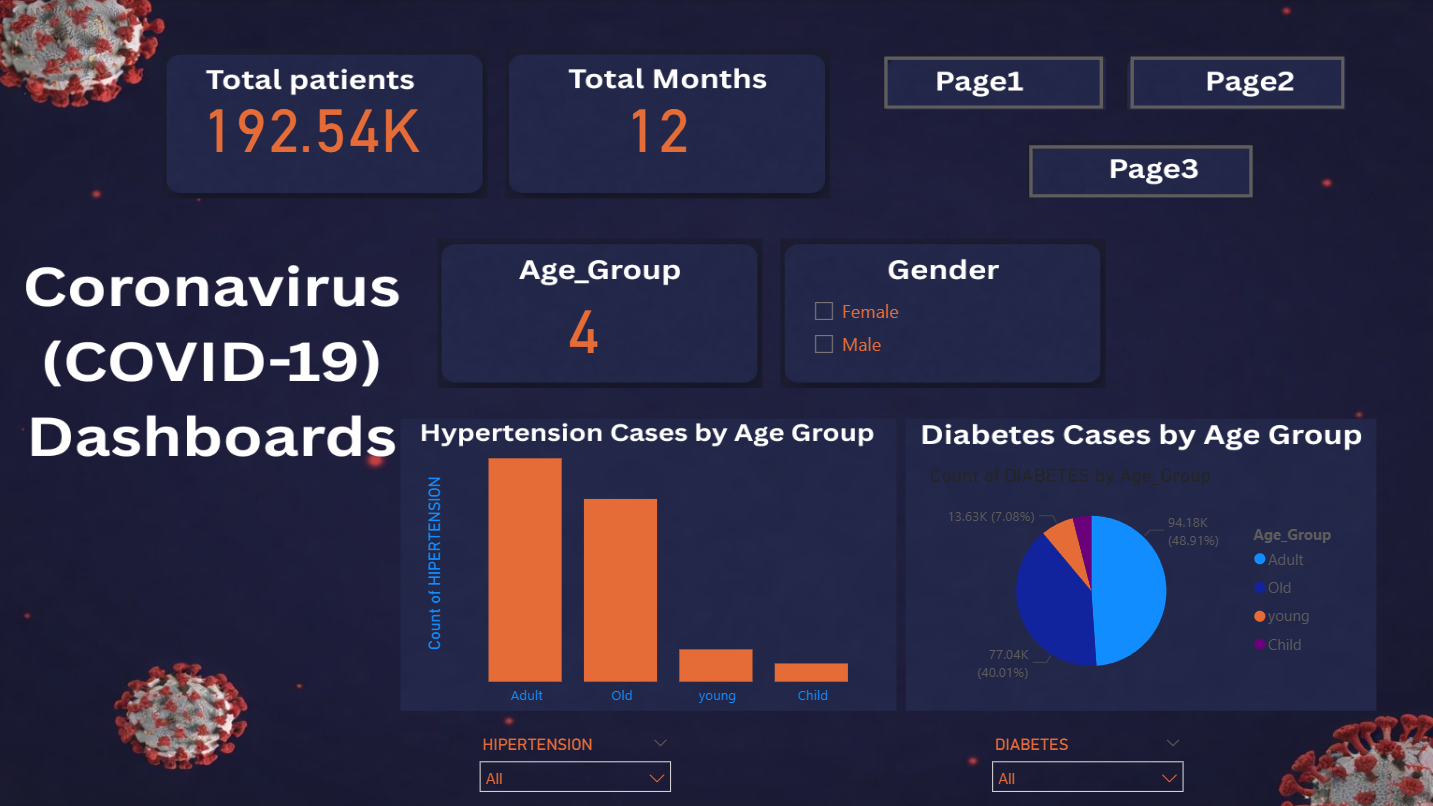

This screenshot's page, from the dashboard's own definition file:
{"tool":"powerbi","page":{"name":"Page 1","canvas":[1280,720],"ordinal":0},"visuals":[{"type":"card","fields":{"Values":["CountNonNull(CovidData_Cleaned.Age_Group)"]},"box":[138.6,87.8,279.9,65.9],"z":0},{"type":"card","fields":{"Values":["Count(CovidData_Cleaned.Month Name)"]},"box":[447.3,87.8,279.9,65.9],"z":1000},{"type":"card","fields":{"Values":["Count(CovidData_Cleaned.Age_Group)"]},"box":[381.5,267.6,279.9,65.9],"z":2000},{"type":"columnChart","fields":{"Category":["CovidData_Cleaned.Age_Group"],"Y":["CountNonNull(CovidData_Cleaned.HIPERTENSION)"]},"box":[376,382.8,422.6,255.2],"z":3000},{"type":"slicer","fields":{"Values":["CovidData_Cleaned.SEX"]},"box":[714.9,258,278.6,75.5],"z":4000},{"type":"actionButton","box":[1008.6,50.8,190.7,46.7],"z":5000},{"type":"actionButton","box":[918,130.4,199,46.7],"z":6000},{"type":"actionButton","box":[789,50.8,194.9,46.7],"z":7000},{"type":"slicer","fields":{"Values":["CovidData_Cleaned.HIPERTENSION"]},"box":[418.5,650.4,190.7,60.4],"z":8000},{"type":"slicer","fields":{"Values":["CovidData_Cleaned.DIABETES"]},"box":[875.5,650.4,190.7,60.4],"z":9000},{"type":"pieChart","fields":{"Y":["CountNonNull(CovidData_Cleaned.DIABETES)"],"Category":["CovidData_Cleaned.Age_Group"]},"box":[824.7,414.4,387,207.2],"z":10000}]}

Visuals, with their boxes in screenshot pixels (x1, y1, x2, y2), scaled from the page's 1280x720 canvas onto the 1433x806 screenshot:
card - CountNonNull(CovidData_Cleaned.Age_Group): (left=155, top=98, right=469, bottom=172)
card - Count(CovidData_Cleaned.Month Name): (left=501, top=98, right=814, bottom=172)
card - Count(CovidData_Cleaned.Age_Group): (left=427, top=300, right=740, bottom=373)
columnChart - CovidData_Cleaned.Age_Group x CountNonNull(CovidData_Cleaned.HIPERTENSION): (left=421, top=429, right=894, bottom=714)
slicer - CovidData_Cleaned.SEX: (left=800, top=289, right=1112, bottom=373)
actionButton: (left=1129, top=57, right=1343, bottom=109)
actionButton: (left=1028, top=146, right=1251, bottom=198)
actionButton: (left=883, top=57, right=1102, bottom=109)
slicer - CovidData_Cleaned.HIPERTENSION: (left=469, top=728, right=682, bottom=796)
slicer - CovidData_Cleaned.DIABETES: (left=980, top=728, right=1194, bottom=796)
pieChart - CountNonNull(CovidData_Cleaned.DIABETES) x CovidData_Cleaned.Age_Group: (left=923, top=464, right=1357, bottom=696)
